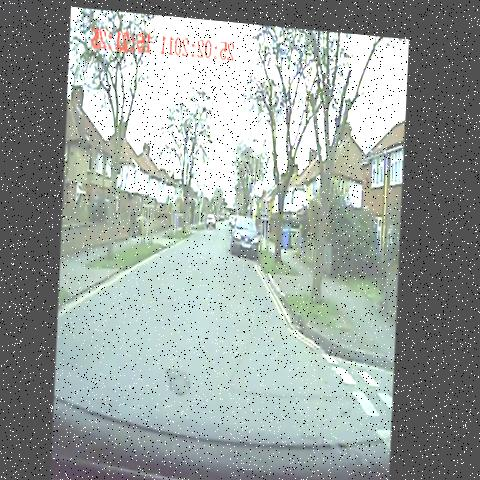pothole: (161, 360, 202, 400)
